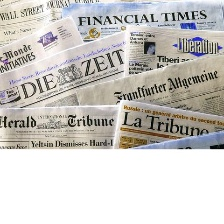news_paper: (0, 19, 151, 108), (73, 51, 224, 121), (59, 1, 224, 49), (109, 94, 223, 151), (0, 0, 130, 48), (0, 101, 128, 149), (121, 22, 223, 79), (0, 11, 89, 75), (118, 124, 224, 149)
